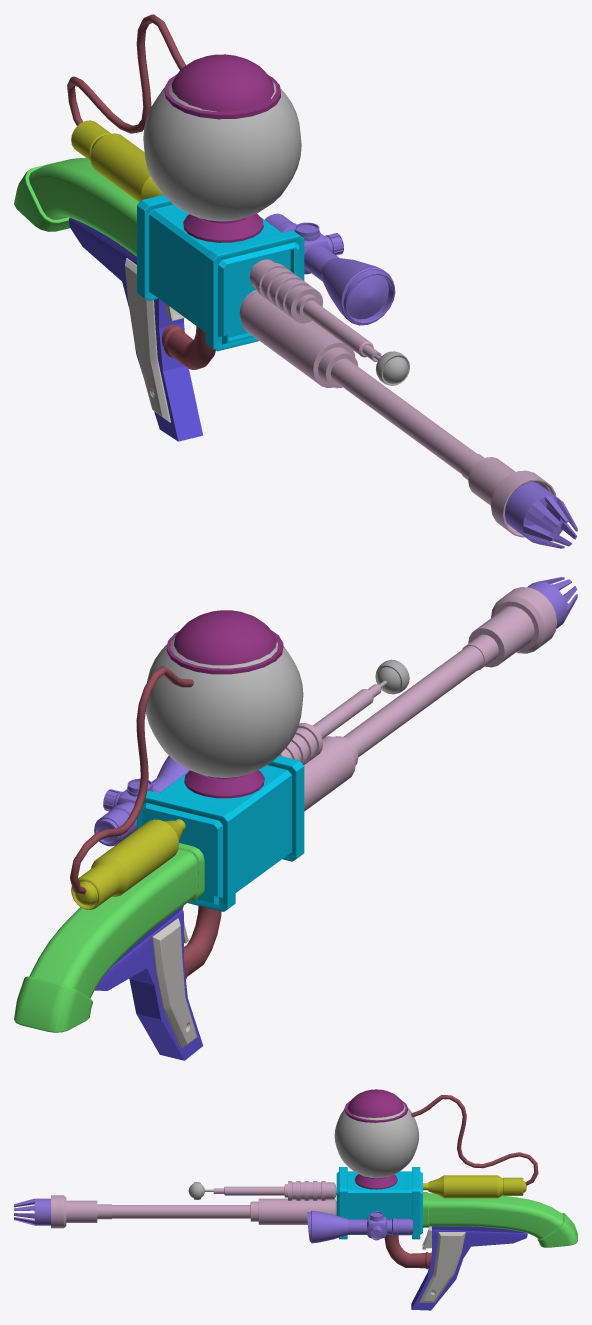
Rendered from level3_gun.fbx.
3 renders of one model, top to bottom at view 1: azimuth 30°, elevation 25°; view 2: azimuth 150°, elevation 25°; view 3: azimuth 270°, elevation 25°, orthographic. The views are drawn at different scales.
Parts seen in each view (by area): view 1: front_shot, pSphere1, box1, pCylinder6, candyhat1, gunback1, pCube4, grip1, barrel1, pCube7, lolipop; view 2: pSphere1, gunback1, front_shot, box1, candyhat1, barrel1, pCube4, grip1, pCylinder6, pCube7, lolipop; view 3: front_shot, gunback1, pSphere1, box1, pCylinder6, pCube4, barrel1, candyhat1, grip1, pCube7.
Boxes of the visible parts, box(x1,y1,x2,y2) form: front_shot: box(239, 259, 556, 537); pSphere1: box(143, 79, 301, 221); box1: box(137, 194, 304, 351); pCylinder6: box(264, 213, 577, 548); candyhat1: box(164, 54, 280, 242); gunback1: box(14, 158, 138, 256); pCube4: box(69, 218, 203, 441); grip1: box(67, 14, 215, 369); barrel1: box(71, 120, 163, 202); pCube7: box(125, 258, 197, 422); lolipop: box(374, 351, 409, 385); pSphere1: box(146, 636, 303, 777); gunback1: box(14, 843, 204, 1032); front_shot: box(279, 587, 557, 811); box1: box(137, 755, 304, 911); candyhat1: box(166, 610, 283, 798); barrel1: box(71, 819, 185, 909); pCube4: box(94, 905, 203, 1060); grip1: box(70, 666, 221, 978); pCylinder6: box(94, 577, 577, 846); pCube7: box(152, 909, 197, 1048); lolipop: box(375, 659, 409, 694); front_shot: box(51, 1181, 336, 1228); gunback1: box(423, 1192, 577, 1247); pSphere1: box(334, 1103, 418, 1178); box1: box(336, 1167, 422, 1239); pCylinder6: box(14, 1198, 413, 1243); pCube4: box(411, 1226, 527, 1310); barrel1: box(423, 1175, 526, 1198); candyhat1: box(344, 1089, 407, 1189); grip1: box(384, 1095, 538, 1269); pCube7: box(419, 1226, 465, 1302).
Bounding box in the file's own units: 21.18 × 44.17 × 105.
